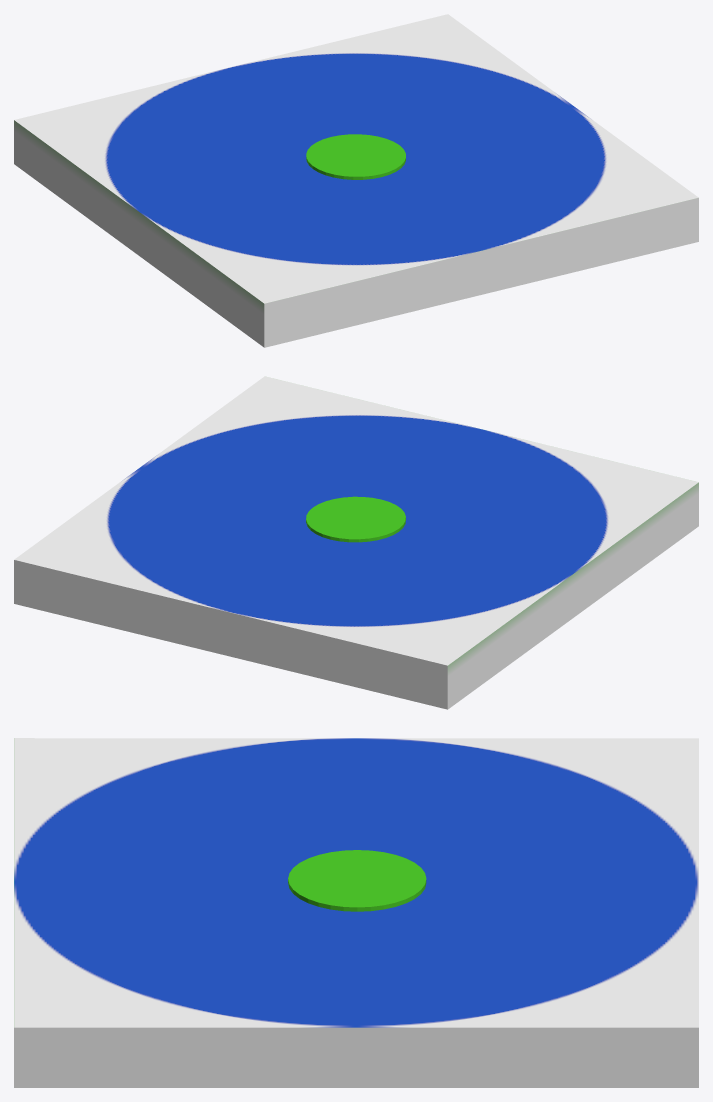
The model's file is platfotm_tr.dae.
3 views of the same model, one above another, from view 1: azimuth 30°, elevation 25°; view 2: azimuth 150°, elevation 25°; view 3: azimuth 270°, elevation 25° (orthographic). The views are drawn at different scales.
Parts seen in each view (by area): view 1: Platform.001; view 2: Platform.001; view 3: Platform.001.
Part boxes in pixels (<box>): Platform.001: <box>14,14,698,347</box>; Platform.001: <box>14,376,698,709</box>; Platform.001: <box>14,738,698,1087</box>.
Size of the model in its own units: 1 by 1 by 0.1039.
Materials: 1 (1 with a texture image).
